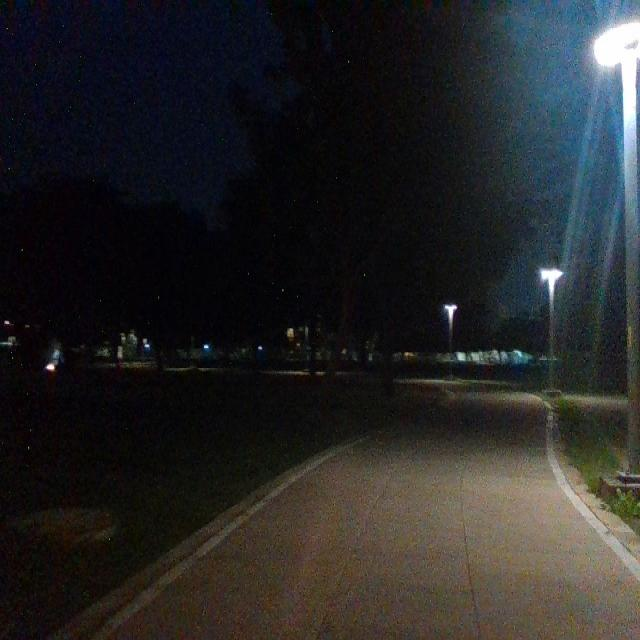lane: (109, 387, 640, 640)
